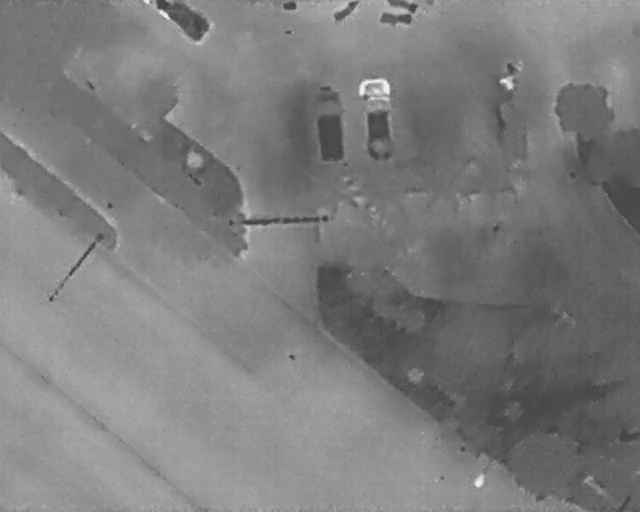Bicycle: (331, 0, 360, 22), (379, 12, 413, 29), (385, 0, 419, 14), (505, 60, 522, 76)
Car: (356, 76, 398, 163), (308, 78, 348, 164), (141, 0, 213, 44)
Person: (498, 75, 517, 91)
